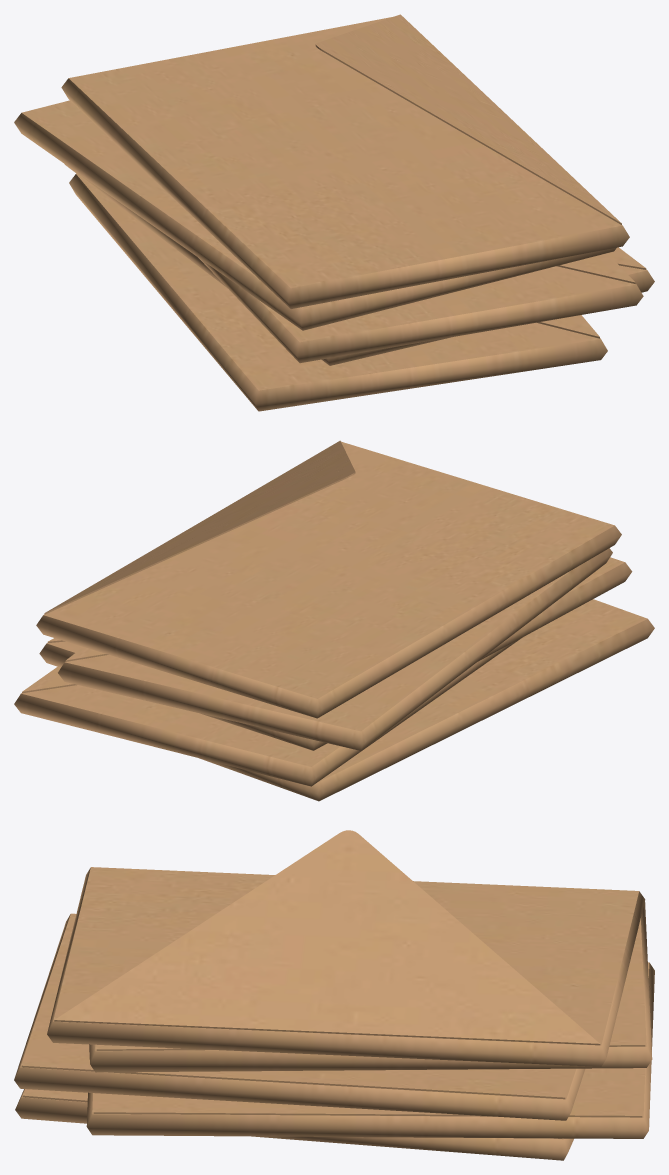
Rendered from mail.glb.
3 renders of one model, top to bottom at view 1: azimuth 30°, elevation 25°; view 2: azimuth 150°, elevation 25°; view 3: azimuth 270°, elevation 25°, orthographic. The views are drawn at different scales.
Parts seen in each view (by area): view 1: Envelope_5.001, Envelope_1.001, Envelope_3.001, Envelope_4.001, Envelope_2.001; view 2: Envelope_5.001, Envelope_4.001, Envelope_1.001, Envelope_2.001, Envelope_3.001; view 3: Envelope_5.001, Envelope_3.001, Envelope_2.001, Envelope_4.001, Envelope_1.001.
Boxes of the visible parts, left/top/right/bottom form: Envelope_5.001: left=61, top=14, right=629, bottom=308; Envelope_1.001: left=69, top=173, right=607, bottom=411; Envelope_3.001: left=198, top=253, right=643, bottom=363; Envelope_4.001: left=14, top=100, right=616, bottom=330; Envelope_2.001: left=64, top=164, right=654, bottom=365; Envelope_5.001: left=36, top=440, right=621, bottom=718; Envelope_4.001: left=58, top=548, right=612, bottom=750; Envelope_1.001: left=199, top=599, right=654, bottom=801; Envelope_2.001: left=14, top=638, right=521, bottom=786; Envelope_3.001: left=39, top=557, right=632, bottom=750; Envelope_5.001: left=47, top=830, right=645, bottom=1066; Envelope_3.001: left=14, top=913, right=585, bottom=1120; Envelope_2.001: left=86, top=962, right=654, bottom=1138; Envelope_4.001: left=89, top=902, right=652, bottom=1072; Envelope_1.001: left=15, top=1089, right=573, bottom=1160.
Bounding box in the file's own units: 4.61 × 2.36 × 6.02.
1 material, 1 textured.
